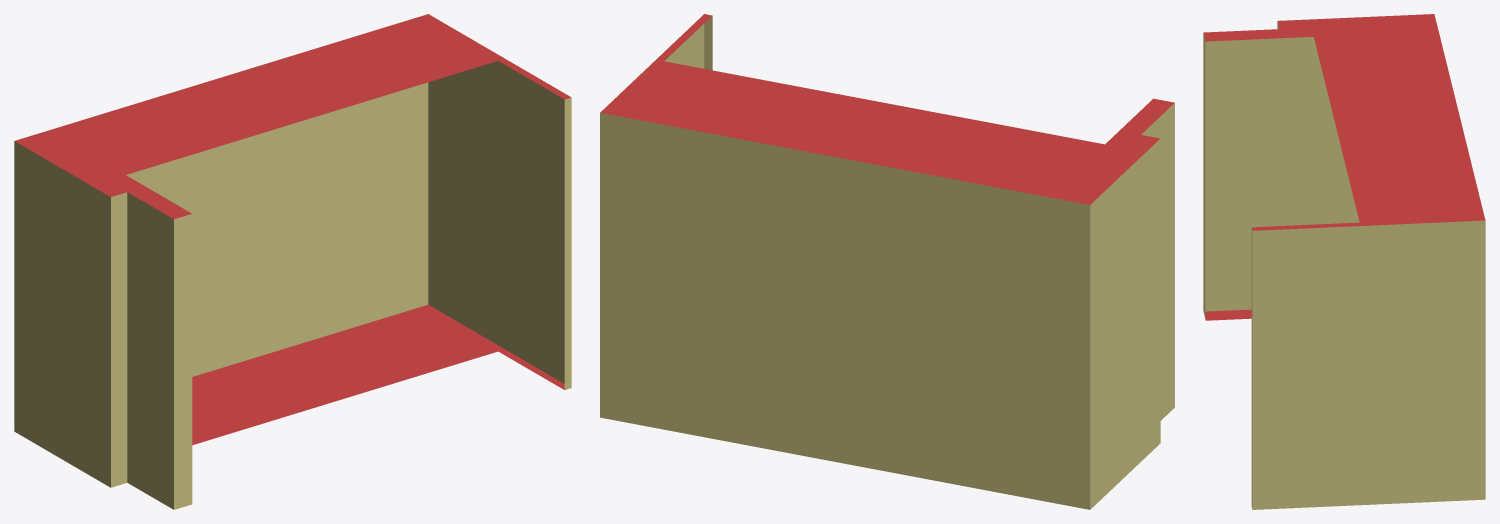
The picture shows the model from 3 angles, left to right: view 1: azimuth 30°, elevation 25°; view 2: azimuth 150°, elevation 25°; view 3: azimuth 270°, elevation 25°; orthographic projection. The views are drawn at different scales.
Bounding box in the file's own units: 11.89 × 6.53 × 7.14.
